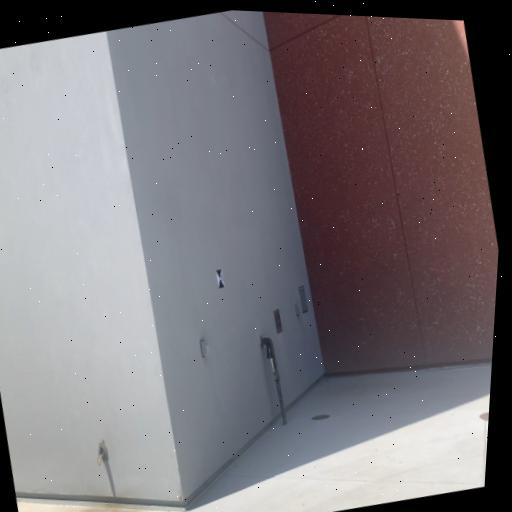target5: (215, 263, 225, 291)
